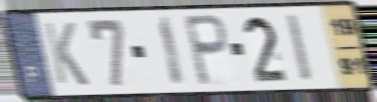2: (242, 14, 289, 84)
7: (84, 17, 127, 89)
I: (284, 12, 316, 85), (156, 14, 187, 89)
K: (41, 20, 92, 88)
P: (181, 12, 231, 88)
